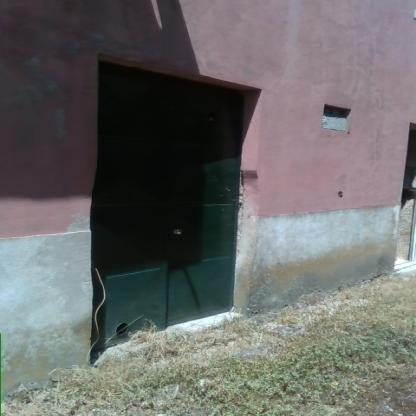closed: (79, 44, 273, 356)
